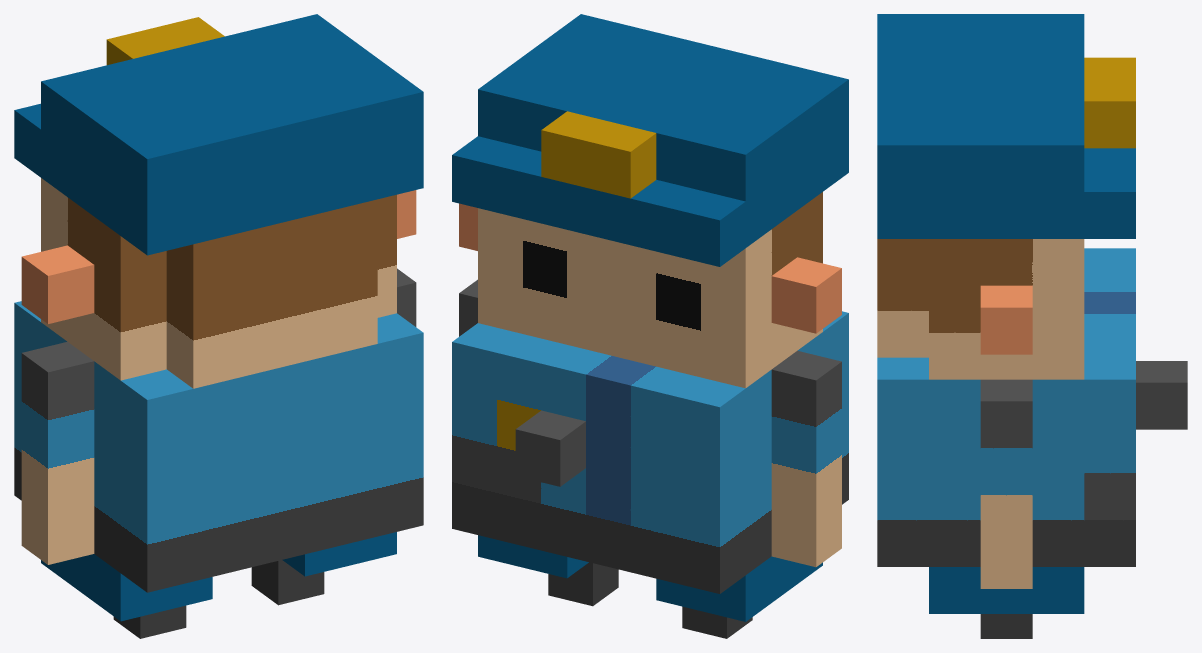
File: chr_cop.dae
The picture shows the model from 3 angles, left to right: view 1: azimuth 30°, elevation 25°; view 2: azimuth 150°, elevation 25°; view 3: azimuth 270°, elevation 25°; orthographic projection. The views are drawn at different scales.
Visible parts, largest first — view 1: chr_cop; view 2: chr_cop; view 3: chr_cop.
Part boxes in pixels (box(x1,y1,x2,y2)): chr_cop: box(14, 14, 423, 638); chr_cop: box(452, 14, 848, 638); chr_cop: box(877, 14, 1187, 638).
Size of the model in its own units: 0.8 by 0.6 by 1.1.
